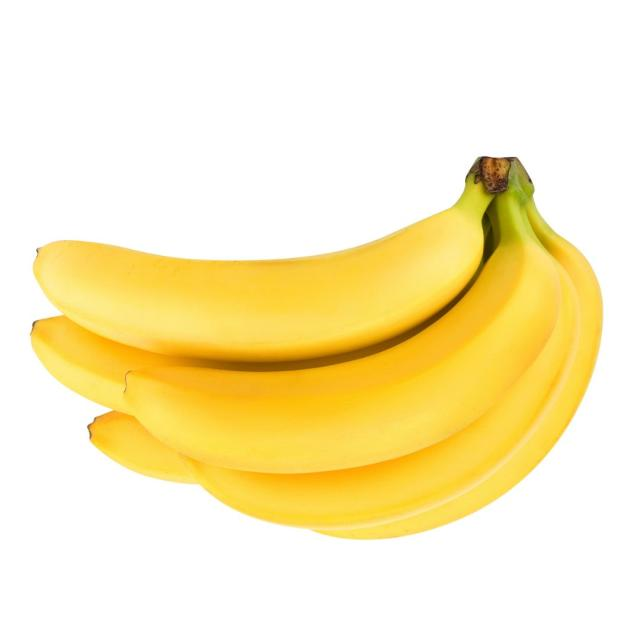Pisang: (31, 150, 602, 543)
